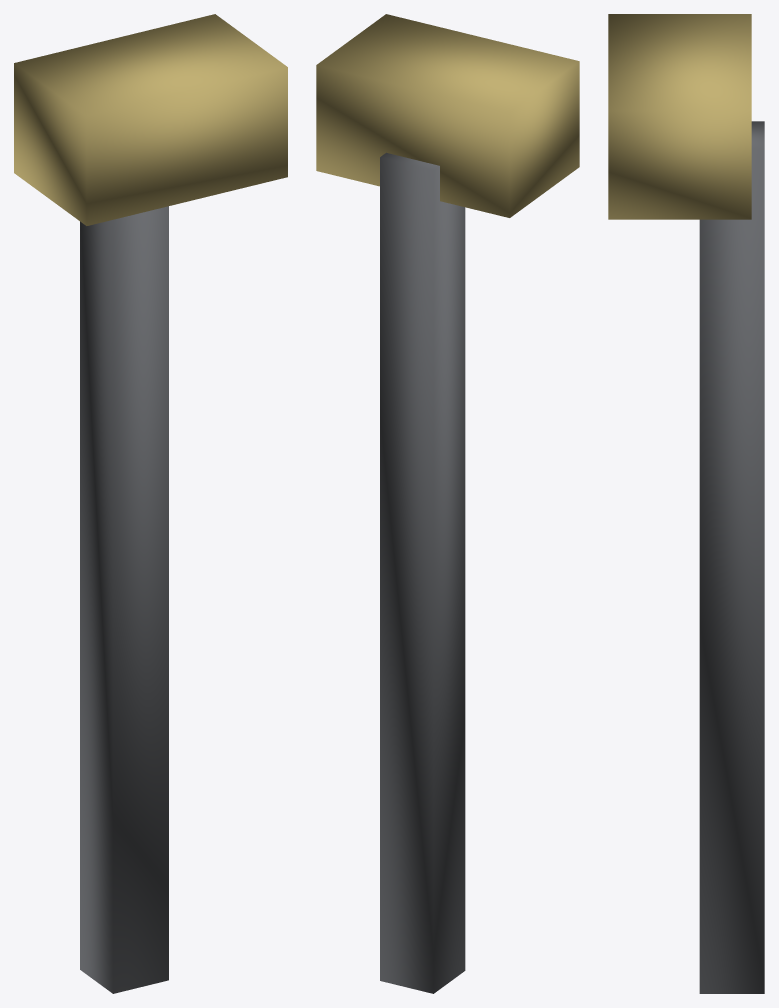
File: dock_light_01.glb
The picture shows the model from 3 angles, left to right: view 1: azimuth 30°, elevation 25°; view 2: azimuth 150°, elevation 25°; view 3: azimuth 270°, elevation 25°; orthographic projection. The views are drawn at different scales.
Parts seen in each view (by area): view 1: world; view 2: world; view 3: world.
Part boxes in pixels (bbox=[...]): world: bbox=[14, 14, 287, 993]; world: bbox=[316, 14, 579, 993]; world: bbox=[608, 14, 764, 993].
Size of the model in its own units: 0.3168 by 1.4 by 0.216.
